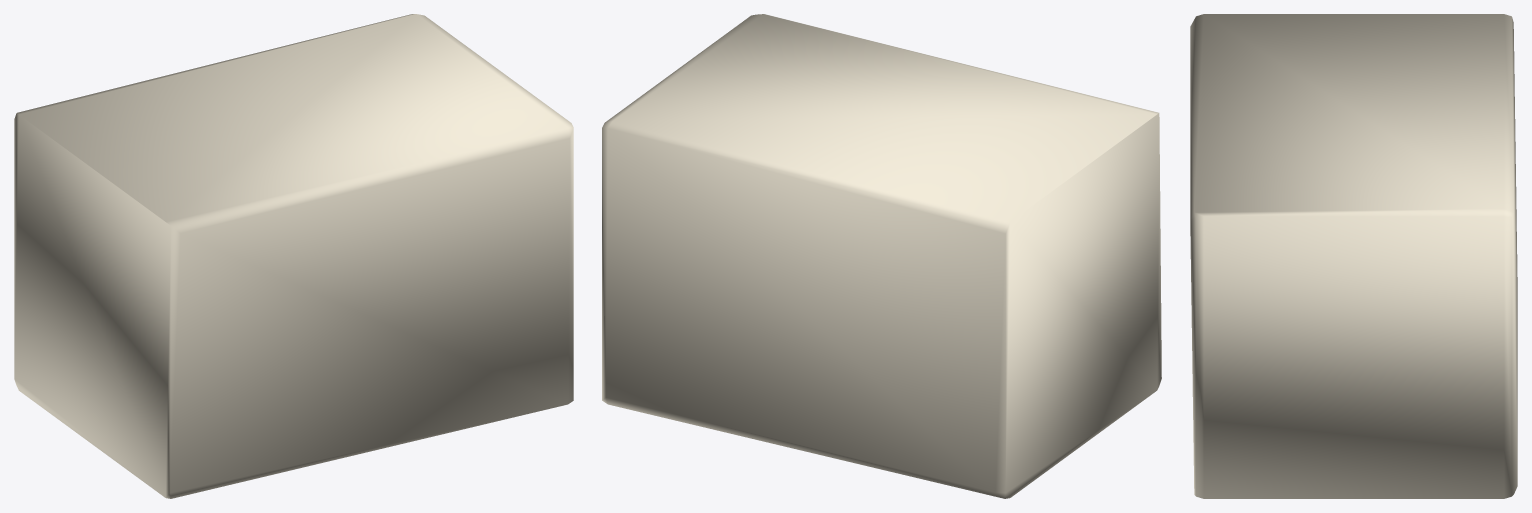
The model's file is equipment_bagging_area.glb.
3 views of the same model, side by side, from view 1: azimuth 30°, elevation 25°; view 2: azimuth 150°, elevation 25°; view 3: azimuth 270°, elevation 25° (orthographic). The views are drawn at different scales.
Visible parts, largest first — view 1: Bagging; view 2: Bagging; view 3: Bagging.
Boxes of the visible parts, <box> form: Bagging: <box>14,14,573,498</box>; Bagging: <box>602,14,1161,498</box>; Bagging: <box>1190,14,1517,498</box>.
Bounding box in the file's own units: 1.23 × 0.82 × 0.84.
